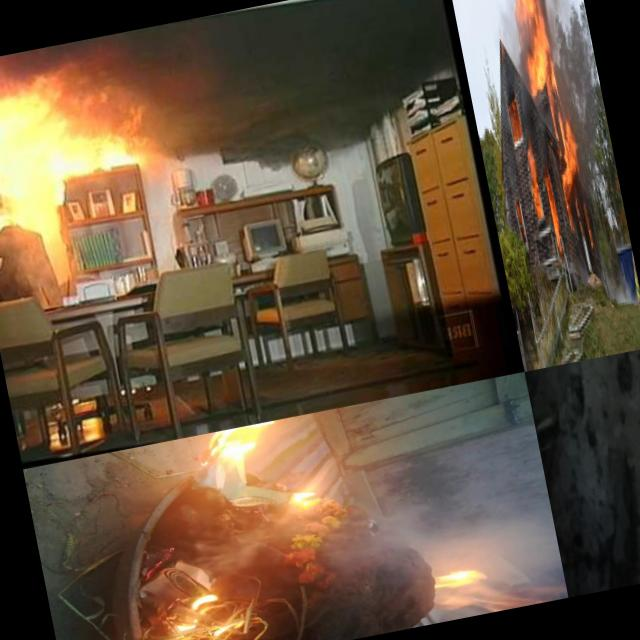fire: (0, 69, 137, 197), (469, 391, 541, 486), (505, 0, 563, 106), (551, 120, 586, 210), (522, 140, 548, 230), (542, 173, 567, 259), (356, 572, 398, 620), (277, 611, 344, 640), (584, 208, 596, 250)
smoke: (373, 386, 504, 586), (508, 38, 545, 146), (392, 580, 467, 630), (567, 114, 612, 194), (542, 0, 598, 56), (601, 264, 639, 312), (527, 0, 570, 14)
